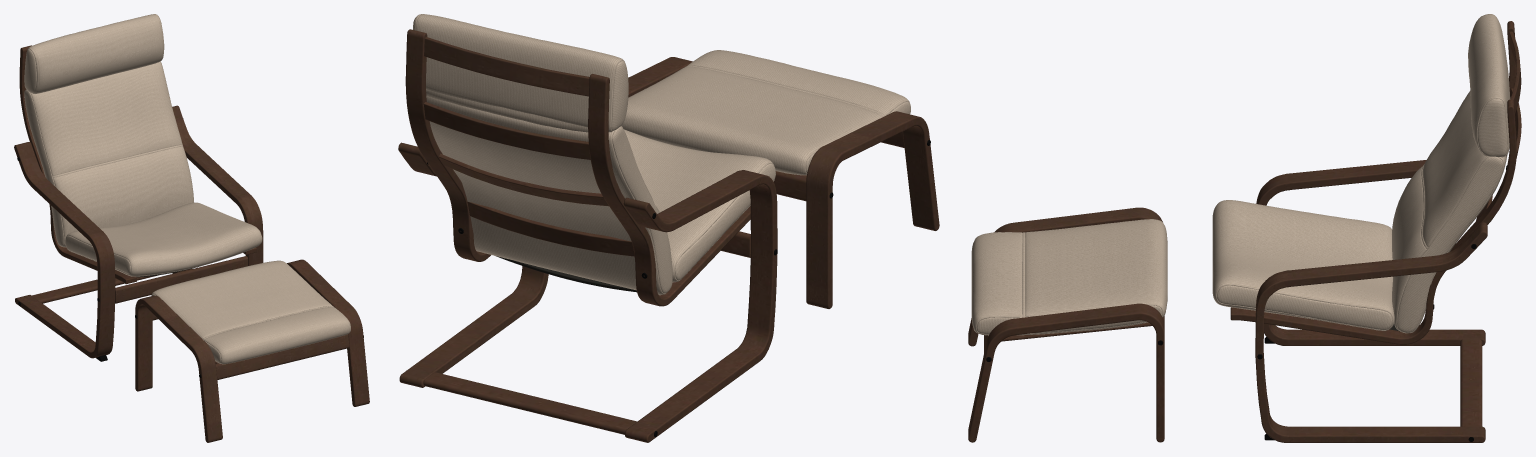
Rendered from poang_fotel_podnozek_29617733.glb.
3 renders of one model, left to right at view 1: azimuth 30°, elevation 25°; view 2: azimuth 150°, elevation 25°; view 3: azimuth 270°, elevation 25°, orthographic. The views are drawn at different scales.
Visible parts, largest first — view 1: poang_fotel_podnozek_29617733; view 2: poang_fotel_podnozek_29617733; view 3: poang_fotel_podnozek_29617733.
Boxes of the visible parts, x1,y1,x2,y2 form: poang_fotel_podnozek_29617733: (14, 14, 369, 442); poang_fotel_podnozek_29617733: (398, 14, 939, 442); poang_fotel_podnozek_29617733: (968, 14, 1521, 442).
Bounding box in the file's own units: 0.6868 × 1 × 1.49.
Materials: 5 (3 with a texture image).
